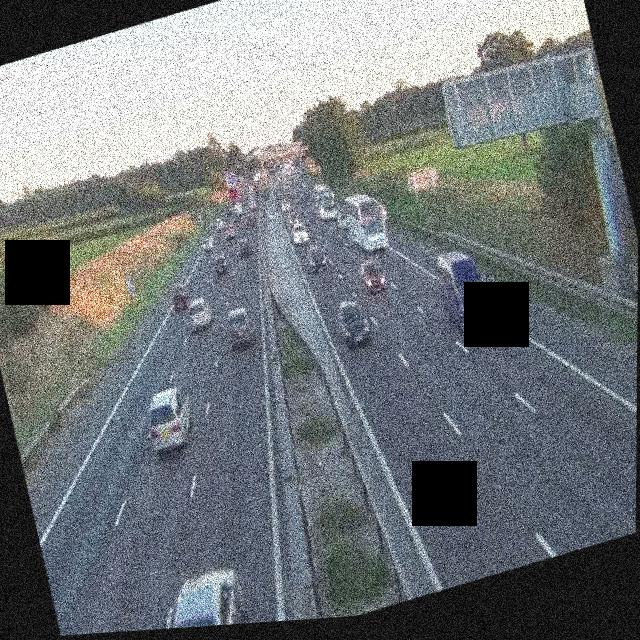bus: (339, 186, 392, 258), (311, 180, 338, 223)
car: (144, 561, 255, 630), (140, 383, 199, 457), (333, 293, 373, 350), (223, 302, 257, 349), (183, 294, 215, 333), (358, 255, 387, 295), (304, 239, 330, 276), (169, 282, 192, 312), (290, 220, 309, 247), (210, 252, 229, 276), (234, 235, 251, 258), (335, 213, 351, 233), (199, 234, 214, 253), (243, 211, 256, 228), (278, 196, 290, 214), (223, 223, 236, 239), (222, 208, 233, 223)
truck: (432, 241, 498, 343)
